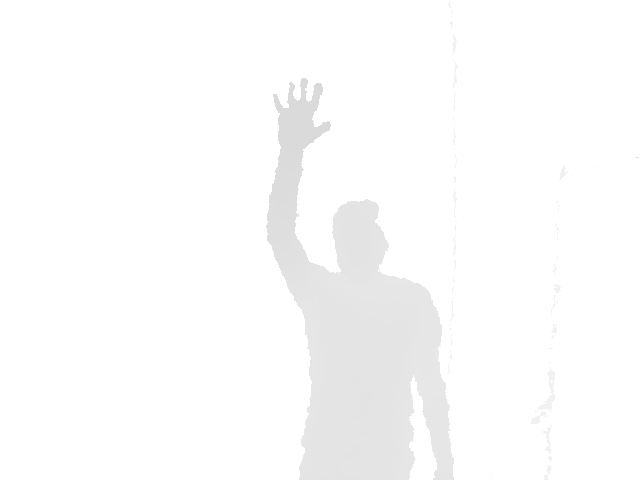hand: (271, 77, 332, 149)
head: (331, 198, 389, 276)
person: (265, 77, 457, 480)
